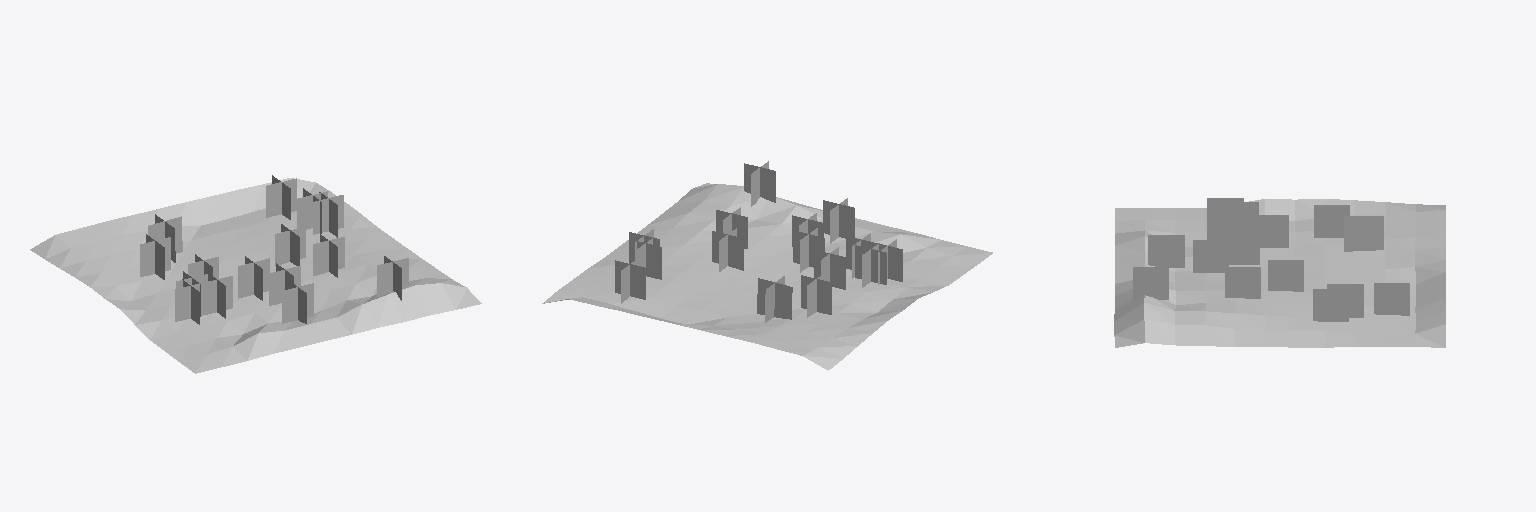
The model's file is terrain.obj.
3 renders of one model, left to right at view 1: azimuth 30°, elevation 25°; view 2: azimuth 150°, elevation 25°; view 3: azimuth 270°, elevation 25°, orthographic.
Parts seen in each view (by area): view 1: Ground_Plane, Grass.004_Plane.001, Grass.007_Plane.001, Grass.003_Plane.001, Grass.006_Plane.001, Grass.009_Plane.001, Grass.012_Plane.001, Grass.010_Plane.001, Grass.011_Plane.001, Grass.014_Plane.001, Grass.001_Plane.001, Grass_Plane.001 (+2 smaller); view 2: Ground_Plane, Grass_Plane.001, Grass.003_Plane.001, Grass.007_Plane.001, Grass.010_Plane.001, Grass.012_Plane.001, Grass.011_Plane.001, Grass.002_Plane.001, Grass.005_Plane.001, Grass.006_Plane.001, Grass.013_Plane.001, Grass.009_Plane.001 (+1 smaller); view 3: Ground_Plane, Grass_Plane.001, Grass.007_Plane.001, Grass.014_Plane.001, Grass.008_Plane.001, Grass.012_Plane.001, Grass.009_Plane.001, Grass.011_Plane.001, Grass.010_Plane.001, Grass.005_Plane.001, Grass.006_Plane.001, Grass.003_Plane.001 (+3 smaller).
Boxes of the visible parts, <box> form: Ground_Plane: <box>30,178,481,373</box>; Grass.004_Plane.001: <box>201,273,232,318</box>; Grass.007_Plane.001: <box>282,281,313,323</box>; Grass.003_Plane.001: <box>140,234,170,279</box>; Grass.006_Plane.001: <box>238,256,269,300</box>; Grass.009_Plane.001: <box>313,234,344,277</box>; Grass.012_Plane.001: <box>266,175,296,219</box>; Grass.010_Plane.001: <box>275,224,305,265</box>; Grass.011_Plane.001: <box>377,256,408,300</box>; Grass.014_Plane.001: <box>313,192,343,237</box>; Grass.001_Plane.001: <box>175,279,203,324</box>; Grass_Plane.001: <box>148,214,182,262</box>; Ground_Plane: <box>542,183,992,370</box>; Grass_Plane.001: <box>757,276,792,322</box>; Grass.003_Plane.001: <box>801,272,831,317</box>; Grass.007_Plane.001: <box>823,198,854,243</box>; Grass.010_Plane.001: <box>712,228,743,271</box>; Grass.012_Plane.001: <box>615,257,645,303</box>; Grass.011_Plane.001: <box>744,161,775,206</box>; Grass.002_Plane.001: <box>855,243,886,287</box>; Grass.005_Plane.001: <box>814,247,845,289</box>; Grass.006_Plane.001: <box>793,228,824,272</box>; Grass.013_Plane.001: <box>630,237,661,279</box>; Grass.009_Plane.001: <box>716,207,747,248</box>; Ground_Plane: <box>1114,199,1445,347</box>; Grass_Plane.001: <box>1344,216,1383,251</box>; Grass.007_Plane.001: <box>1148,235,1184,267</box>; Grass.014_Plane.001: <box>1313,289,1348,321</box>; Grass.008_Plane.001: <box>1193,240,1228,272</box>; Grass.012_Plane.001: <box>1374,283,1409,315</box>; Grass.009_Plane.001: <box>1225,267,1260,298</box>; Grass.011_Plane.001: <box>1133,267,1168,299</box>; Grass.010_Plane.001: <box>1268,260,1303,291</box>; Grass.005_Plane.001: <box>1252,215,1288,247</box>; Grass.006_Plane.001: <box>1223,232,1259,264</box>; Grass.003_Plane.001: <box>1314,205,1349,237</box>.
Size of the model in its own units: 28.81 by 4.6 by 28.84.